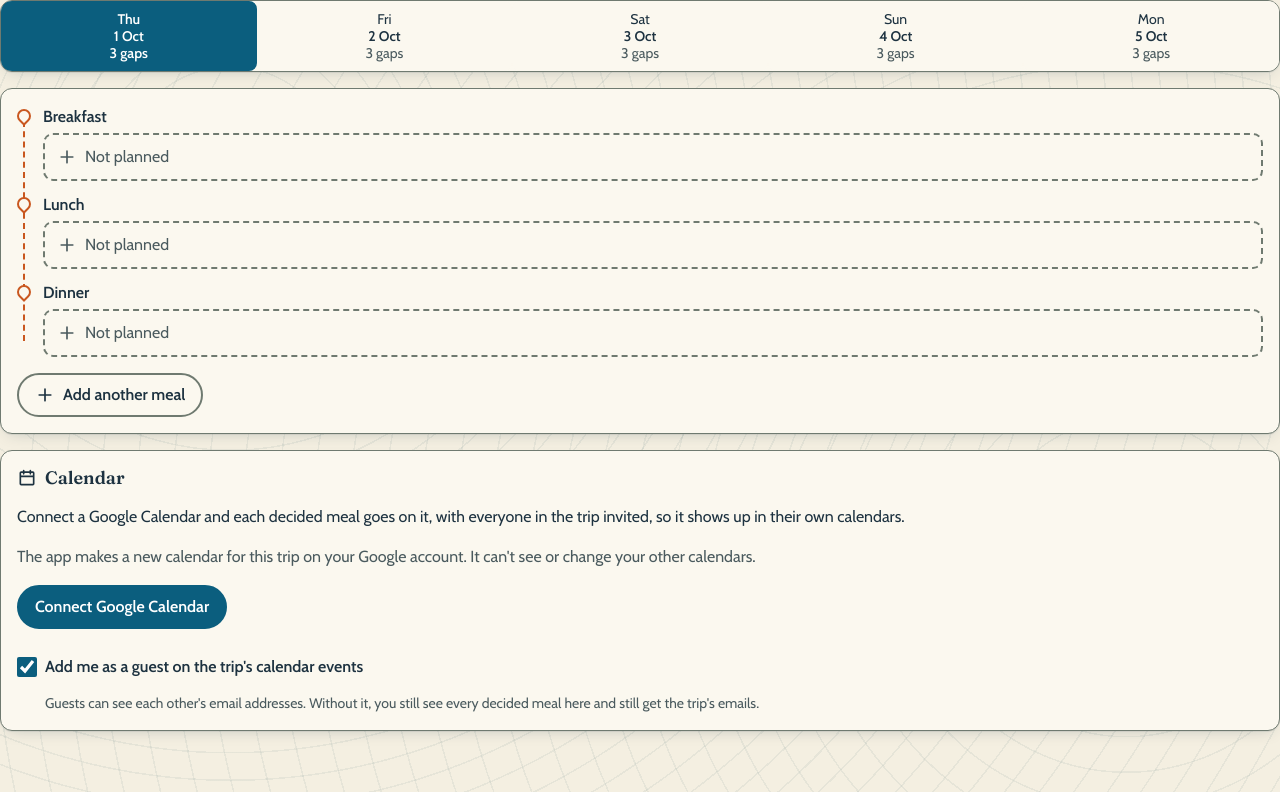
Test: proposing from the grid › a proposal made in a meal's details shows on its marker and in the day's summary
Click the button "Lunch Not planned".
click(653, 231)  # box [43,193,1263,269]
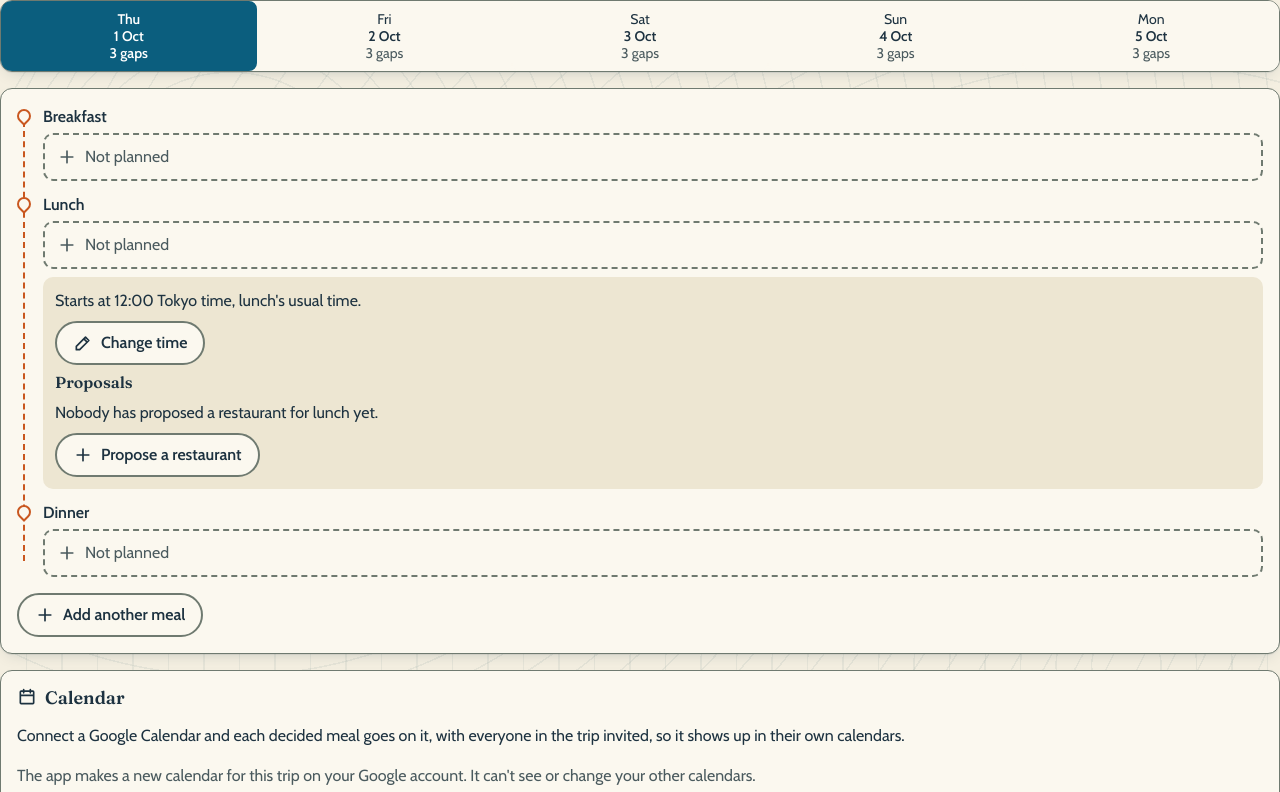
Click the button "Propose a restaurant".
click(157, 455)  # box [55,433,260,477]
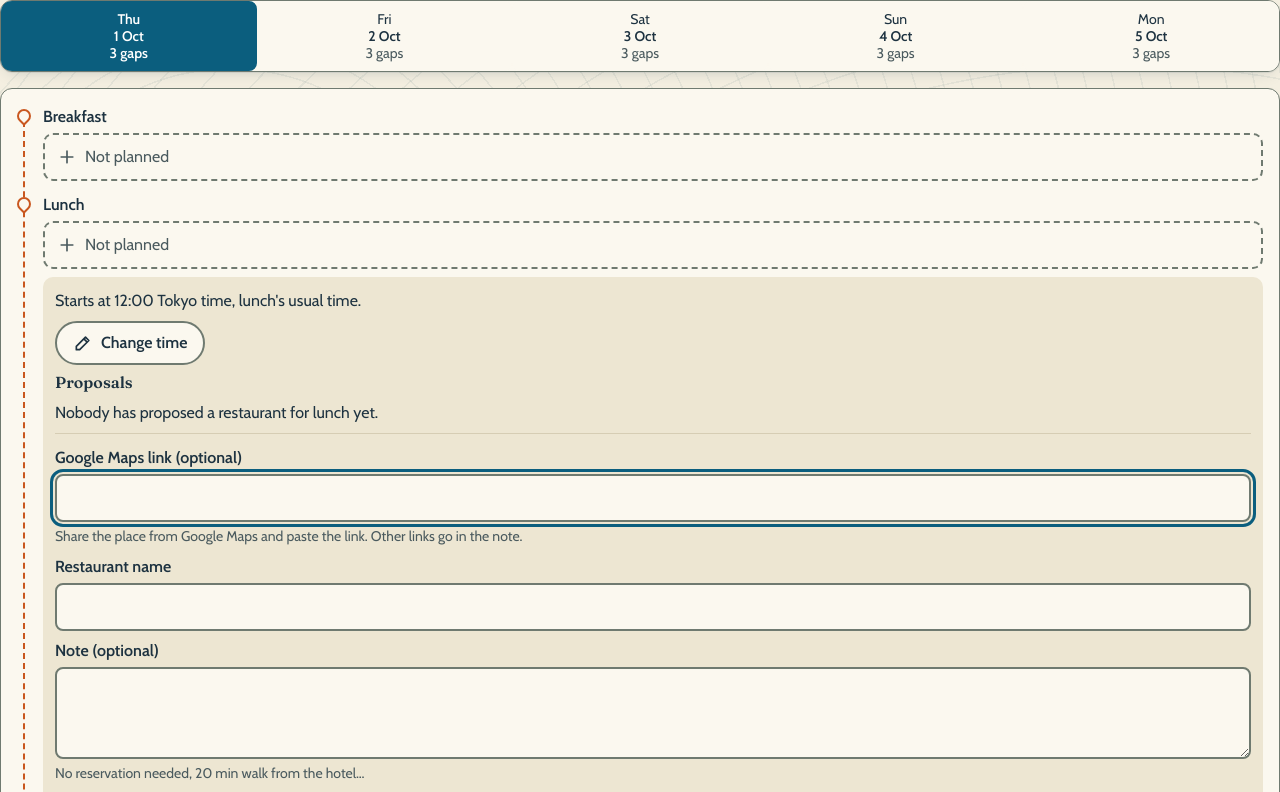
Type "Afuri Ramen Ebisu" into the field labelled "Restaurant name".
click(653, 607); type("Afuri Ramen Ebisu")  # box [55,583,1251,631]
(page scrolled)
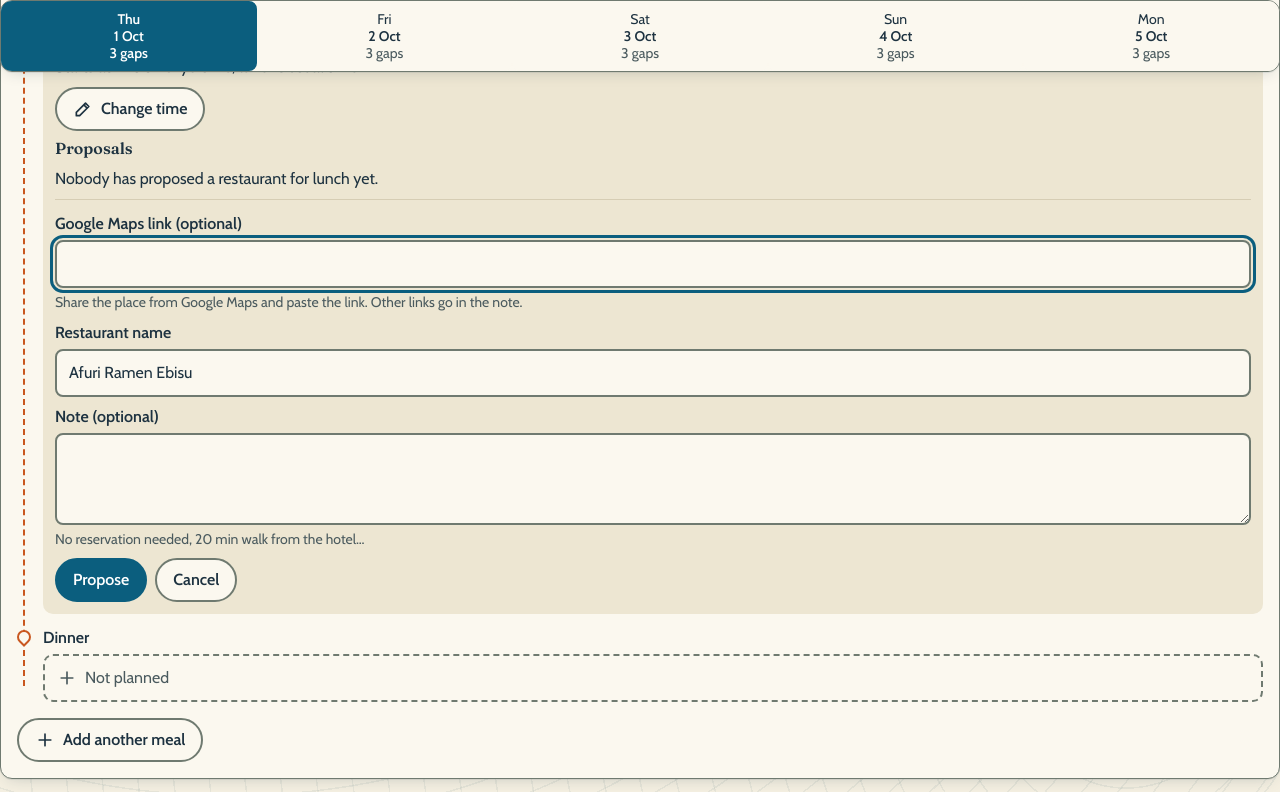
Submit the form, box [55,199,1251,602]
(page scrolled)
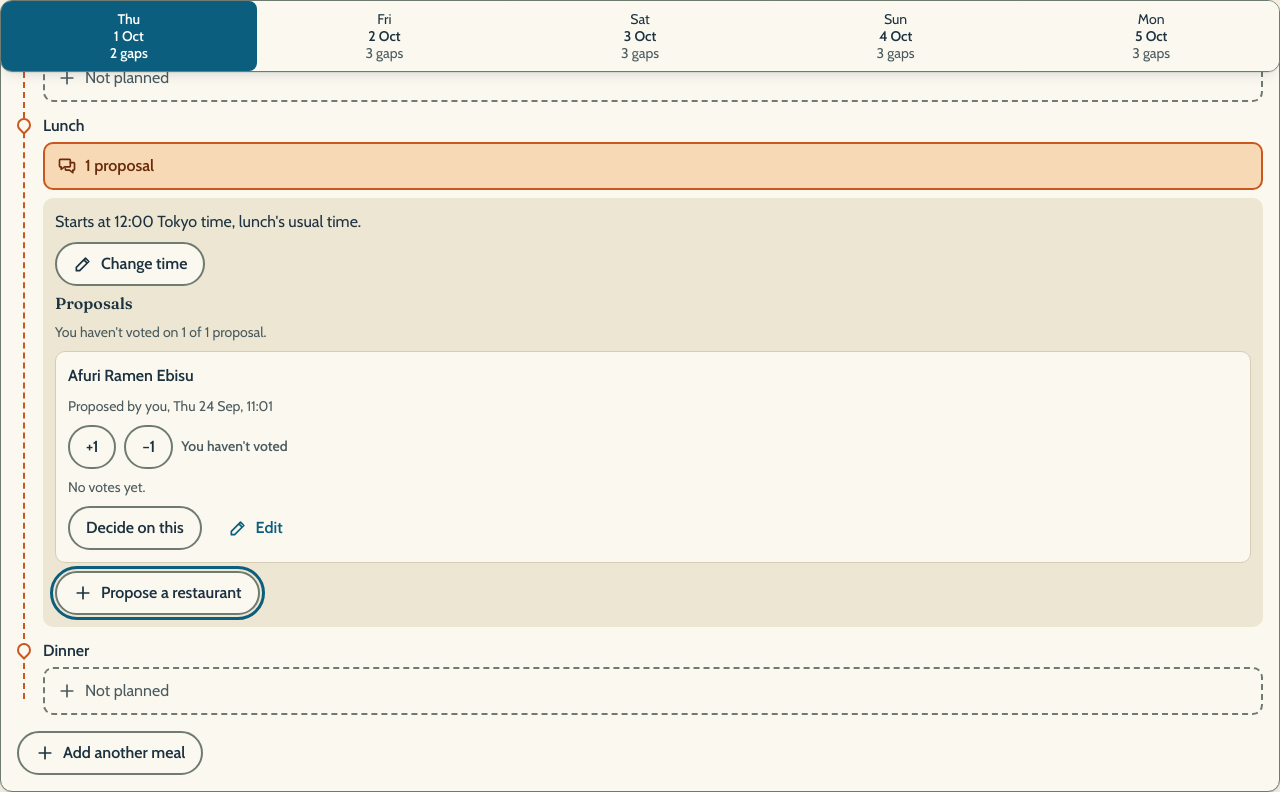
Now the tab "Thu 1 Oct 2 gaps" is shown, box [1,1,257,71]
Now the panel shows "Afuri Ramen Ebisu", box [68,366,194,385]
